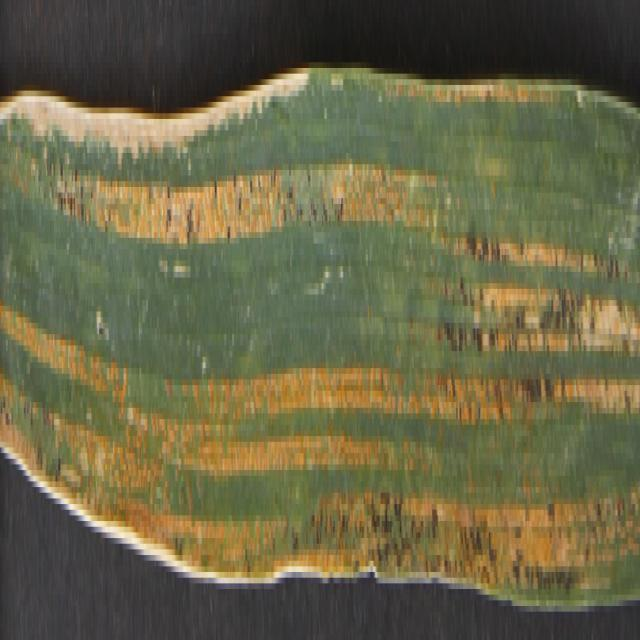leaf rust: (7, 119, 637, 600)
